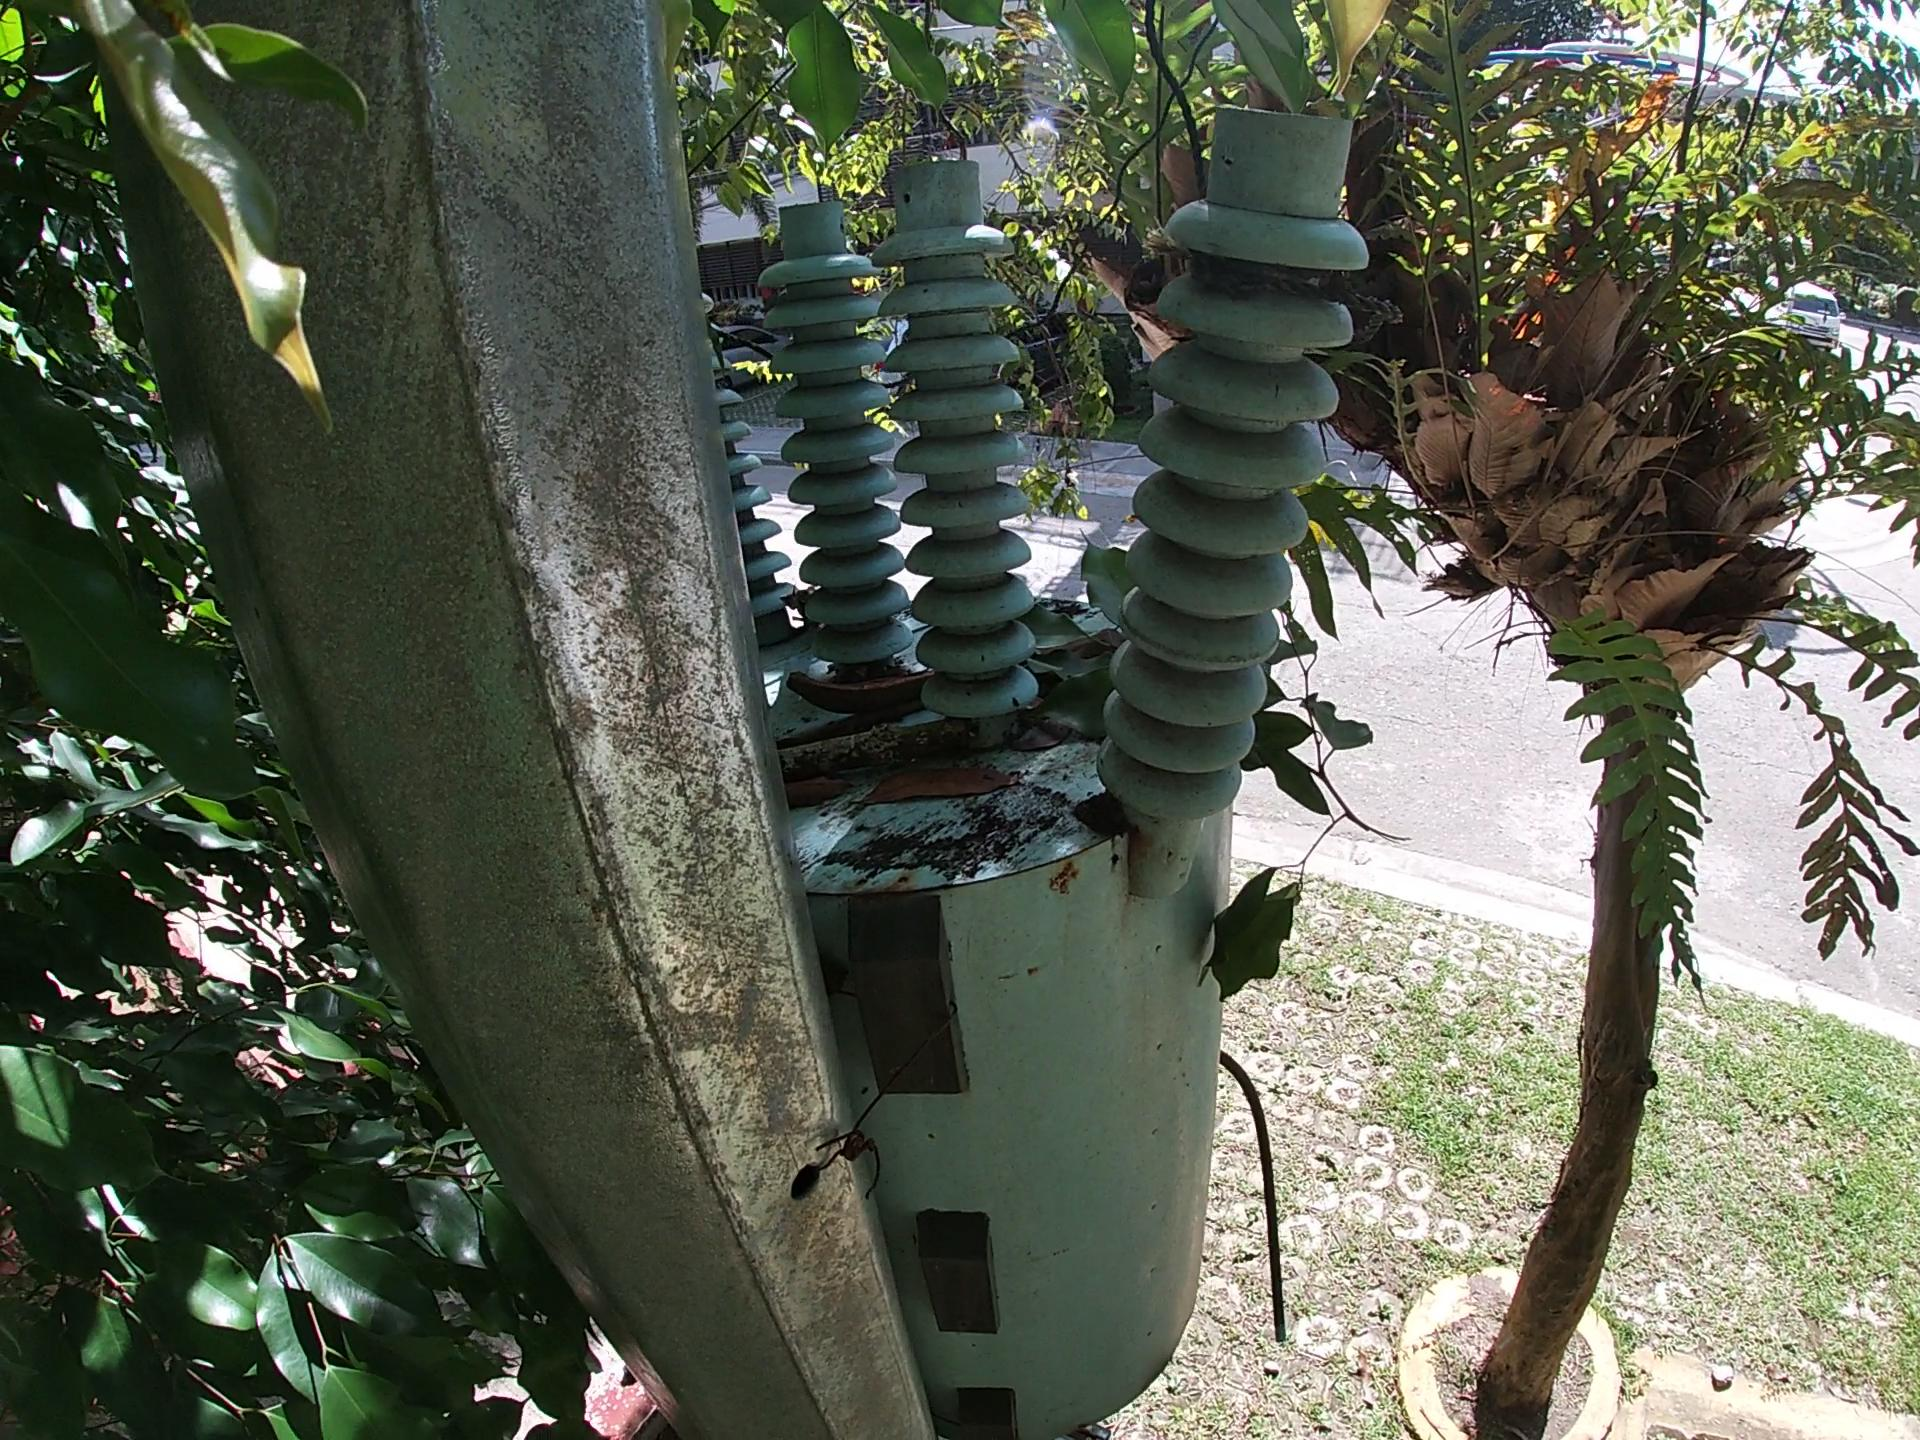branch with leaves: (1214, 587, 1398, 1053)
leaf: (1014, 519, 1132, 725), (863, 756, 1005, 809), (777, 771, 845, 811)
mahogany fruit: (785, 664, 945, 722)
tree branch: (760, 729, 962, 761)
